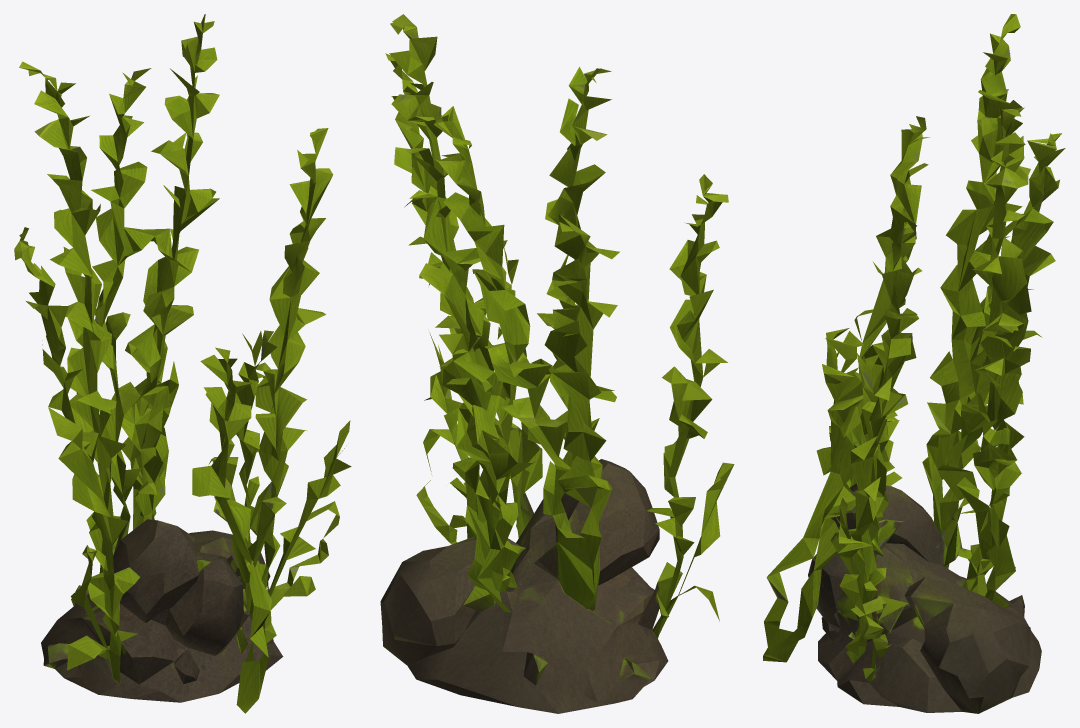
File: kelp.glb
The picture shows the model from 3 angles, left to right: view 1: azimuth 30°, elevation 25°; view 2: azimuth 150°, elevation 25°; view 3: azimuth 270°, elevation 25°; orthographic projection. The views are drawn at different scales.
Size of the model in its own units: 1.04 by 1.88 by 0.8584.
Materials: 1 (1 with a texture image).
